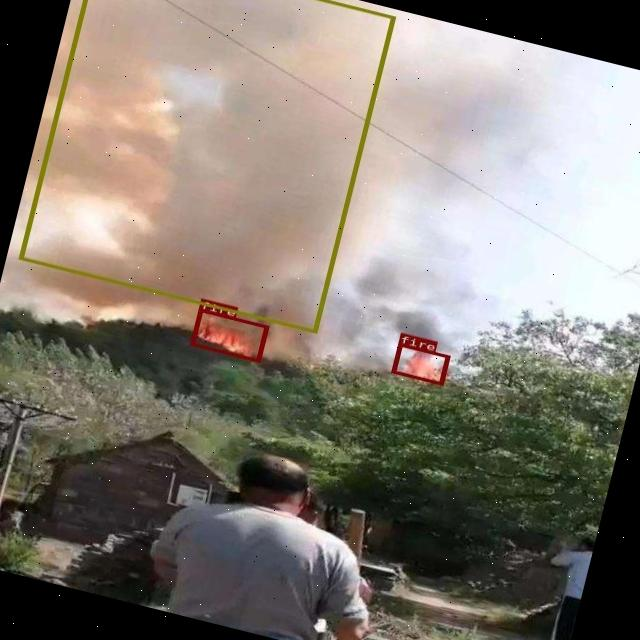fire: (189, 308, 268, 362), (391, 342, 448, 384)
smoke: (17, 0, 395, 332)
